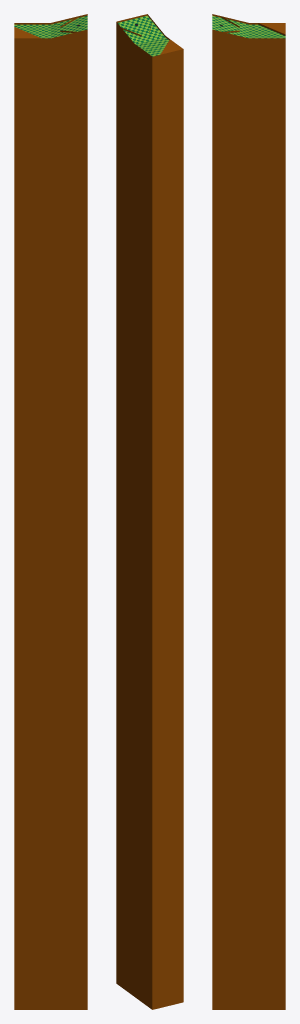
The model's file is testmap3.obj.
The picture shows the model from 3 angles, left to right: view 1: azimuth 90°, elevation 25°; view 2: azimuth 210°, elevation 25°; view 3: azimuth 270°, elevation 25°; orthographic projection.
Visible parts, largest first — view 1: Cube_Cube.001, Plane.010_Plane.025, Plane_Plane.007, Plane.011_Plane.026; view 2: Cube_Cube.001, Plane.010_Plane.025, Plane_Plane.007; view 3: Cube_Cube.001, Plane.010_Plane.025, Plane_Plane.007, Plane.003_Plane.011, Plane.009_Plane.024.
Part boxes in pixels (x1,y1,x2,y2): Cube_Cube.001: (14,23,87,1009); Plane.010_Plane.025: (51,15,87,38); Plane_Plane.007: (14,24,50,38); Plane.011_Plane.026: (51,29,87,39); Cube_Cube.001: (116,32,183,1009); Plane.010_Plane.025: (118,15,165,44); Plane_Plane.007: (136,37,168,56); Cube_Cube.001: (212,23,285,1009); Plane.010_Plane.025: (212,15,248,38); Plane_Plane.007: (249,24,285,38); Plane.003_Plane.011: (212,29,248,39); Plane.009_Plane.024: (258,23,285,35).
Size of the model in its own units: 10 by 295 by 20.
Materials: 3 (1 with a texture image).
